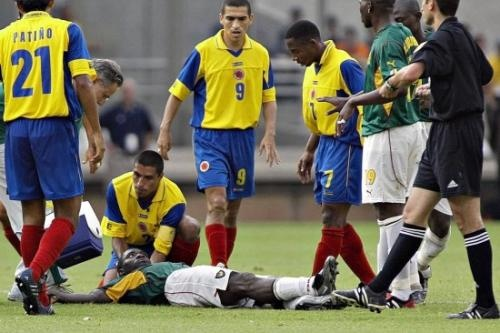falling: (25, 242, 354, 310)
